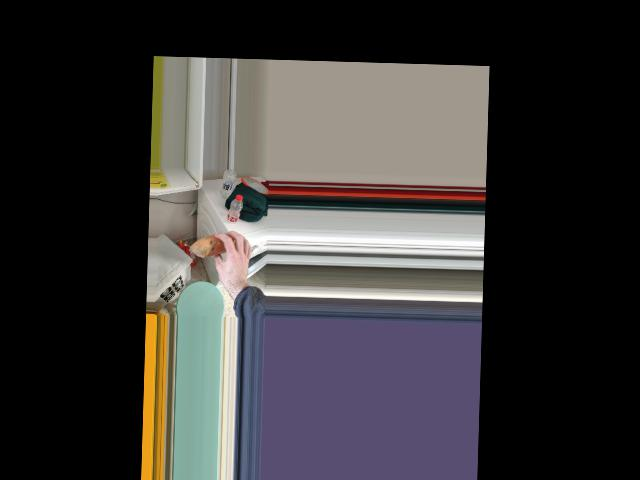sweet_potato: (191, 234, 240, 257)
